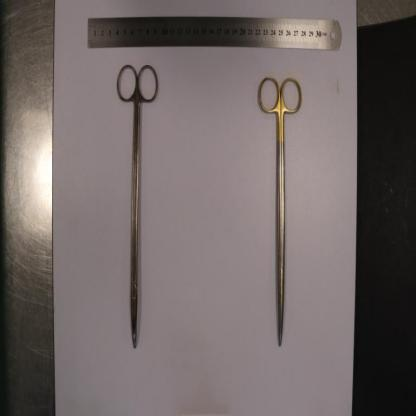7 Metzenbaum Scissors: (258, 75, 303, 347)
9 Metzenbaum Scissors: (116, 64, 159, 350)
